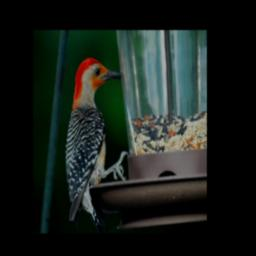Woodpecker: (63, 57, 128, 232)
